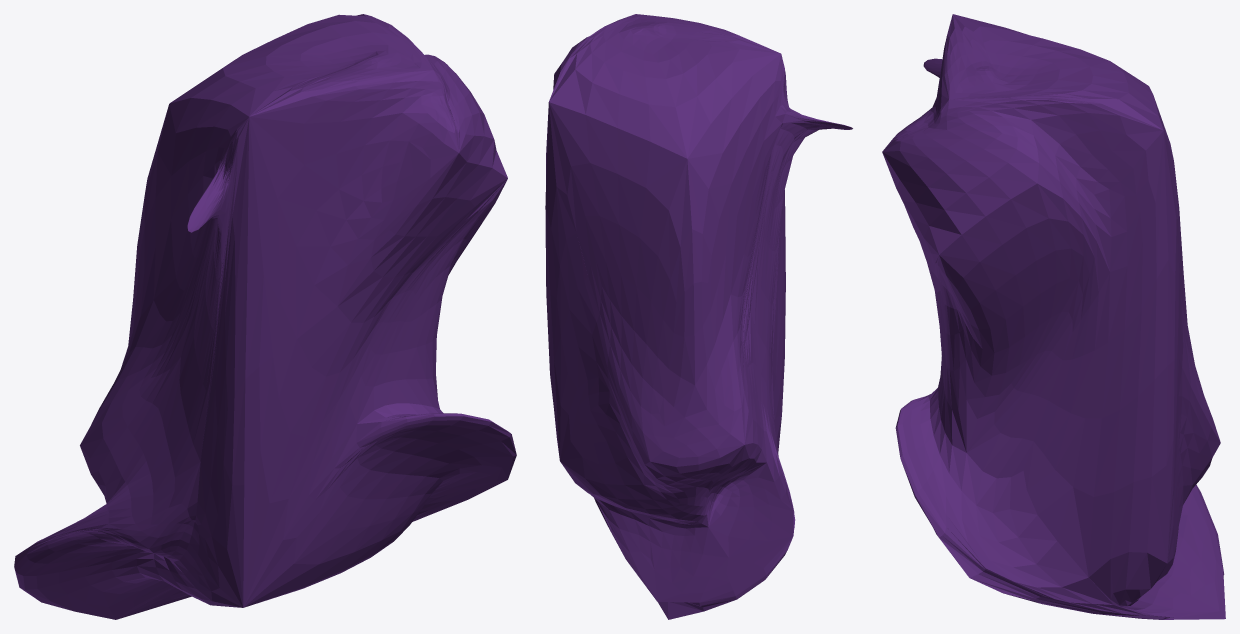
The picture shows the model from 3 angles, left to right: view 1: azimuth 30°, elevation 25°; view 2: azimuth 150°, elevation 25°; view 3: azimuth 270°, elevation 25°; orthographic projection. The views are drawn at different scales.
Visible parts, largest first — view 1: 127_Cube.525; view 2: 127_Cube.525; view 3: 127_Cube.525.
Part boxes in pixels (<box>): 127_Cube.525: <box>14,14,516,619</box>; 127_Cube.525: <box>545,14,852,619</box>; 127_Cube.525: <box>882,14,1225,619</box>.
Size of the model in its own units: 9.61 by 14.46 by 7.31.
